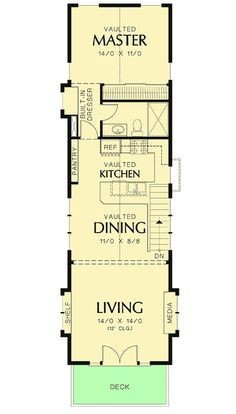door: (98, 342, 144, 370), (79, 119, 100, 143), (101, 101, 118, 123)
room: (65, 139, 172, 253), (65, 255, 172, 360), (66, 4, 180, 84), (69, 84, 181, 142)
wall: (65, 114, 75, 200), (63, 2, 77, 62), (167, 82, 176, 164), (101, 133, 172, 143), (105, 96, 174, 106), (104, 96, 175, 105), (166, 4, 174, 61), (65, 251, 75, 290), (99, 2, 142, 9), (145, 356, 171, 367), (165, 339, 176, 364), (167, 251, 173, 293), (69, 356, 91, 367), (167, 184, 177, 204), (66, 336, 72, 362), (61, 81, 74, 92), (75, 116, 81, 137), (97, 117, 103, 137), (97, 87, 105, 101), (58, 107, 70, 116), (160, 1, 172, 9), (58, 331, 70, 336)
window: (65, 204, 76, 250), (166, 60, 179, 84), (75, 2, 99, 10), (65, 64, 72, 84)
